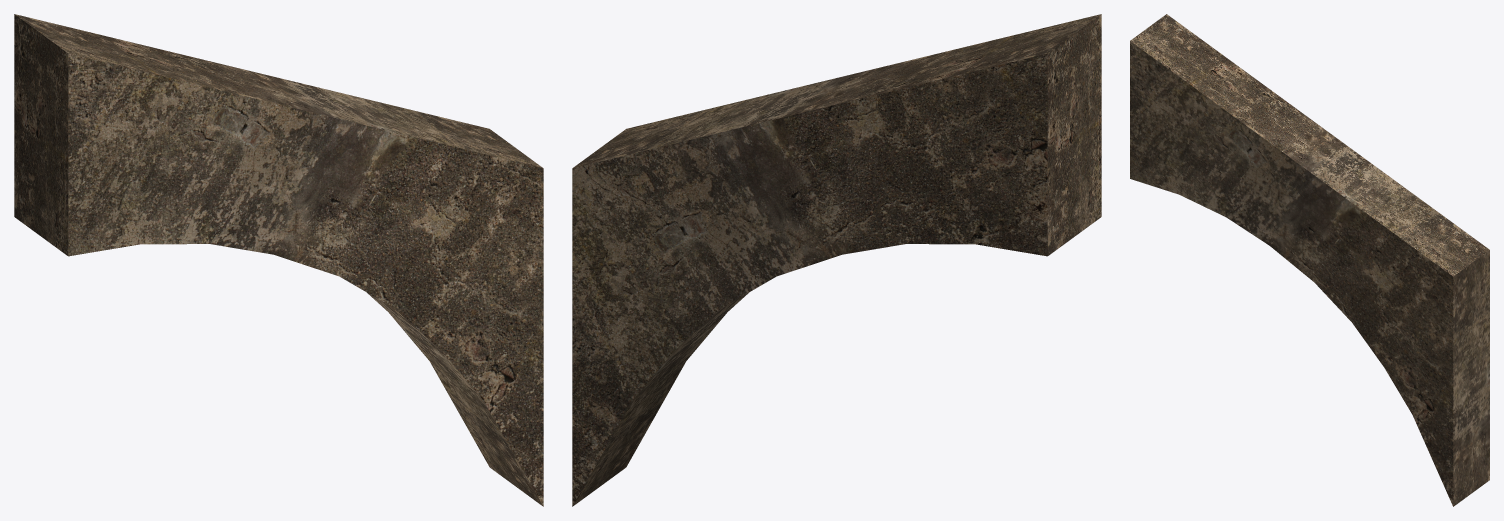
The model's file is materials_5_wall_rectangle_2.fbx.
3 renders of one model, left to right at view 1: azimuth 30°, elevation 25°; view 2: azimuth 150°, elevation 25°; view 3: azimuth 330°, elevation 25°, orthographic. The views are drawn at different scales.
Parts seen in each view (by area): view 1: materials_5_wall_rectangle_2; view 2: materials_5_wall_rectangle_2; view 3: materials_5_wall_rectangle_2.
Boxes of the visible parts, <box> form: materials_5_wall_rectangle_2: <box>14,14,543,506</box>; materials_5_wall_rectangle_2: <box>572,14,1101,506</box>; materials_5_wall_rectangle_2: <box>1130,14,1489,506</box>.
Size of the model in its own units: 438 by 502 by 86.11.
